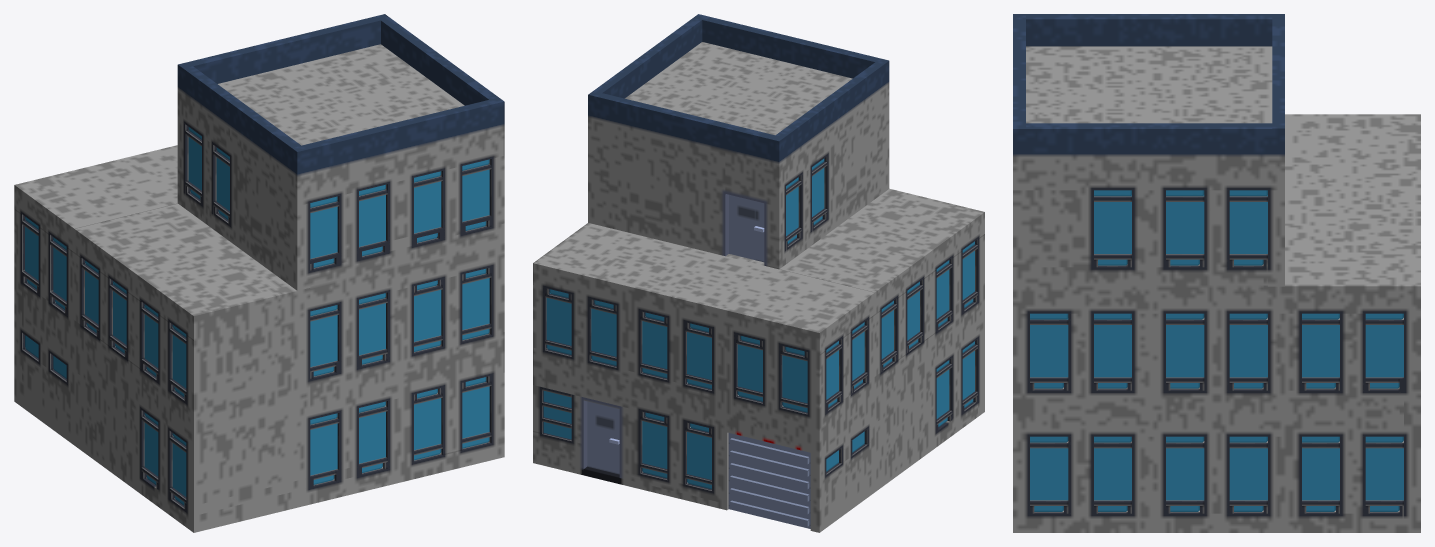
Rendered from kurierska_cala.dae.
The picture shows the model from 3 angles, left to right: view 1: azimuth 30°, elevation 25°; view 2: azimuth 150°, elevation 25°; view 3: azimuth 270°, elevation 25°; orthographic projection. The views are drawn at different scales.
Visible parts, largest first — view 1: Content; view 2: Content; view 3: Content.
Part boxes in pixels (<box>): Content: <box>14,14,504,532</box>; Content: <box>533,14,984,532</box>; Content: <box>1013,14,1420,532</box>.
Bounding box in the file's own units: 96 × 105 × 96.
Materials: 1 (1 with a texture image).
